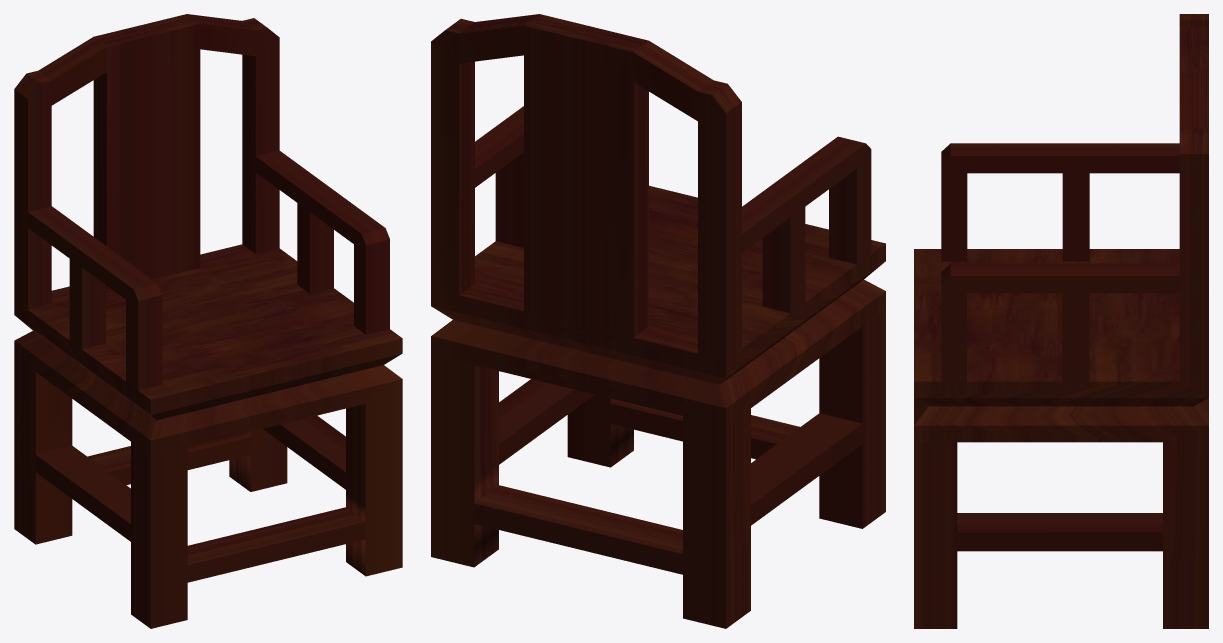
The model's file is Chair2.fbx.
3 renders of one model, left to right at view 1: azimuth 30°, elevation 25°; view 2: azimuth 150°, elevation 25°; view 3: azimuth 270°, elevation 25°, orthographic. The views are drawn at different scales.
Parts seen in each view (by area): view 1: Chair2; view 2: Chair2; view 3: Chair2.
Boxes of the visible parts, bbox=[...] form: Chair2: bbox=[14, 14, 402, 628]; Chair2: bbox=[431, 14, 885, 628]; Chair2: bbox=[914, 14, 1208, 628].
Bounding box in the file's own units: 0.495 × 0.8884 × 0.4647.
1 material, 1 textured.
